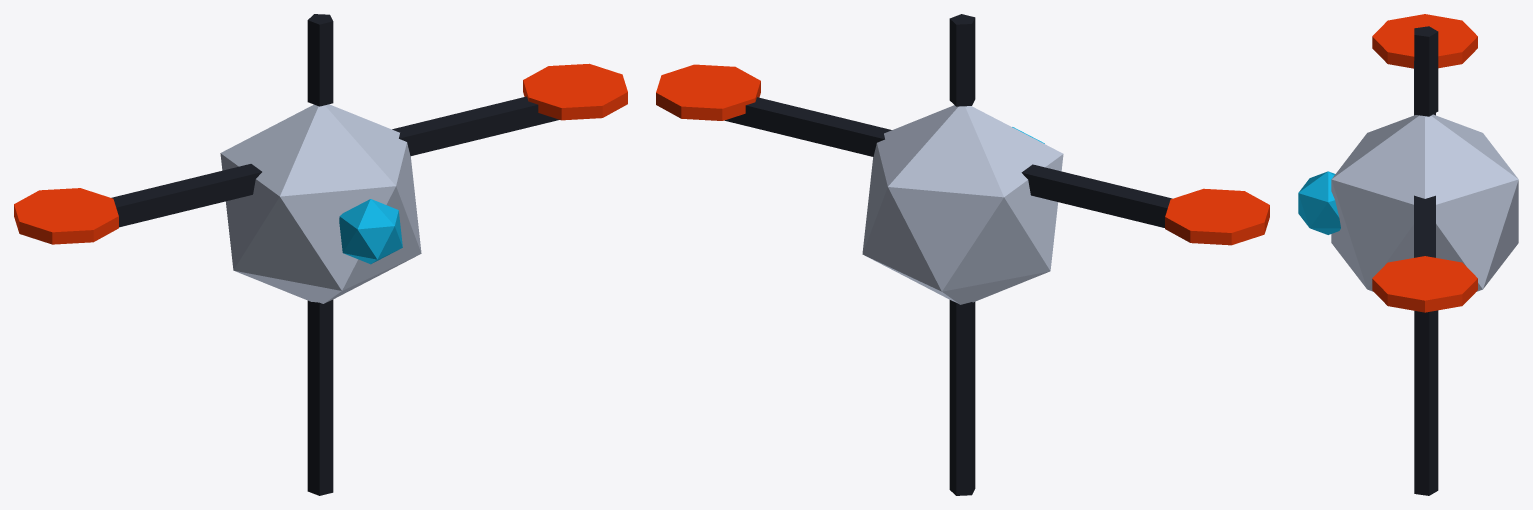
Rendered from drone_bot.obj.
The picture shows the model from 3 angles, left to right: view 1: azimuth 30°, elevation 25°; view 2: azimuth 150°, elevation 25°; view 3: azimuth 270°, elevation 25°; orthographic projection. The views are drawn at different scales.
Visible parts, largest first — view 1: drone_bot; view 2: drone_bot; view 3: drone_bot.
Boxes of the visible parts, x1,y1,x2,y2 form: drone_bot: (14,14,627,495); drone_bot: (656,14,1269,495); drone_bot: (1298,14,1518,495).
Size of the model in its own units: 1.54 by 1.15 by 0.5007.
